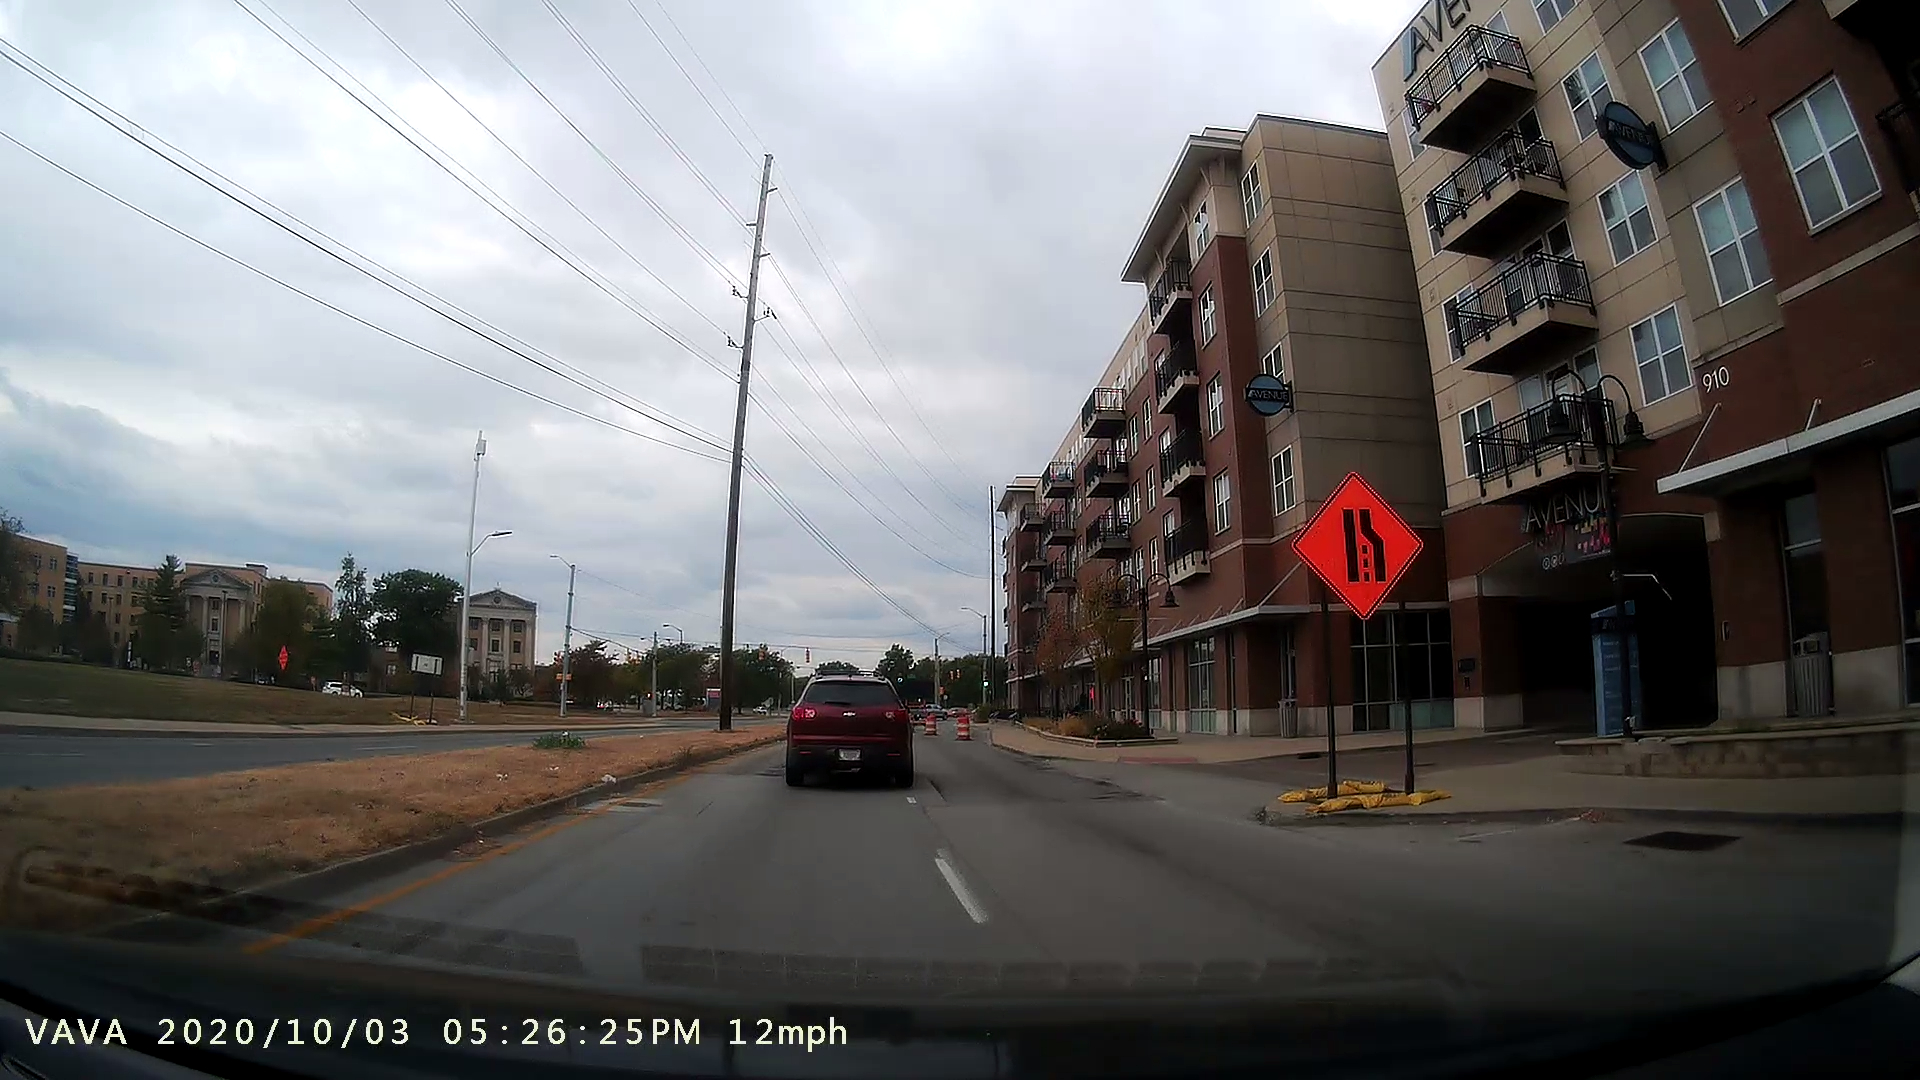ttcs_right_lane_reduction: (1288, 458, 1449, 806)
